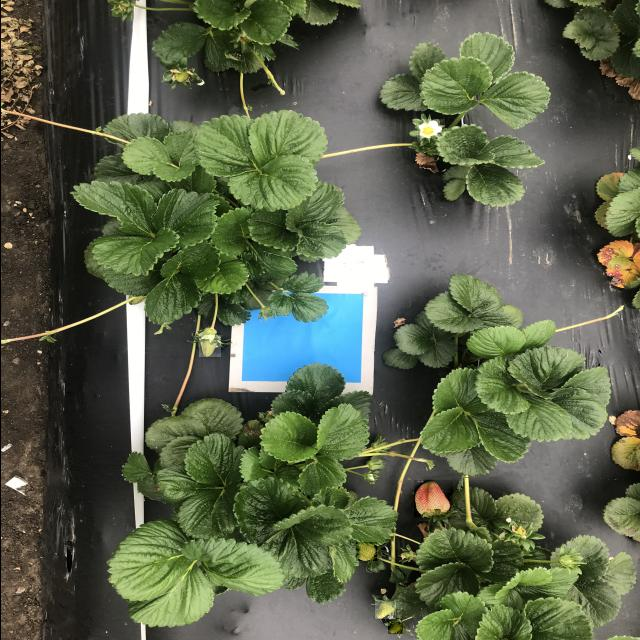partially-ripe: (415, 119, 444, 139)
ripe: (197, 335, 220, 358), (354, 542, 376, 562), (372, 601, 394, 620), (169, 71, 189, 83), (386, 622, 402, 635)
unripe: (412, 480, 452, 518)
